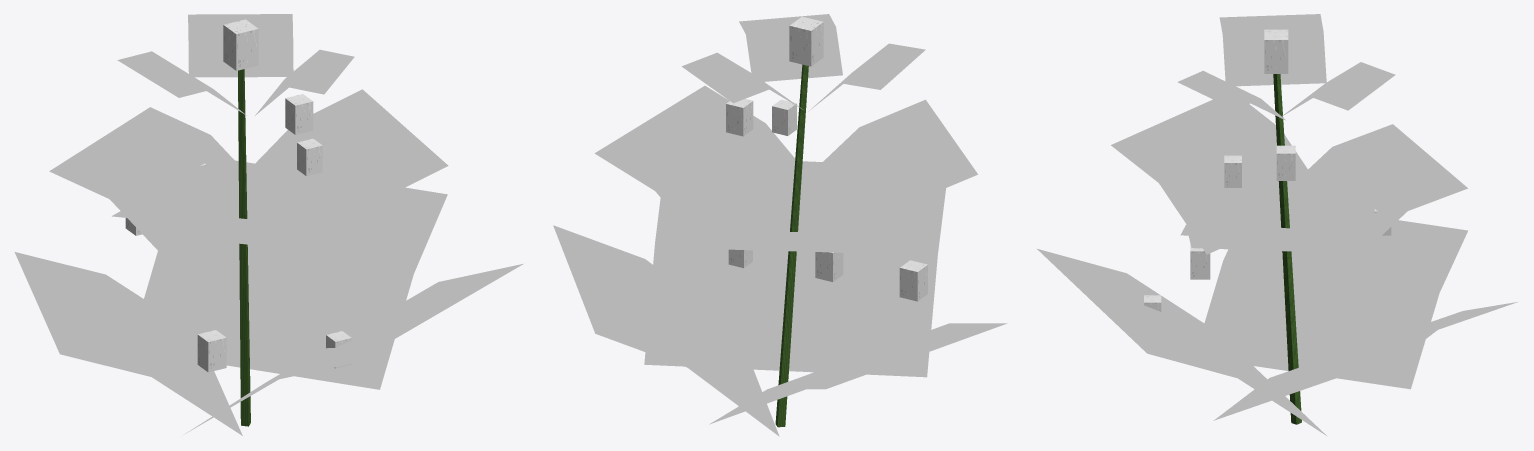
Rendered from plant_2_2_2_lod.obj.
3 views of the same model, side by side, from view 1: azimuth 30°, elevation 25°; view 2: azimuth 150°, elevation 25°; view 3: azimuth 270°, elevation 25° (orthographic). The views are drawn at different scales.
Visible parts, largest first — view 1: model; view 2: model; view 3: model.
Boxes of the visible parts, x1,y1,x2,y2 form: model: (14, 14, 523, 435); model: (553, 14, 1007, 436); model: (1037, 14, 1518, 436).
Bounding box in the file's own units: 0.8454 × 0.7727 × 0.8882.
